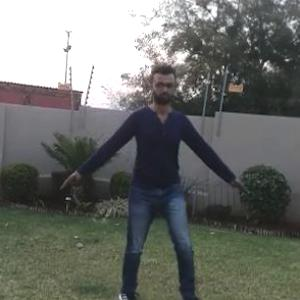land: (70, 66, 242, 299)
